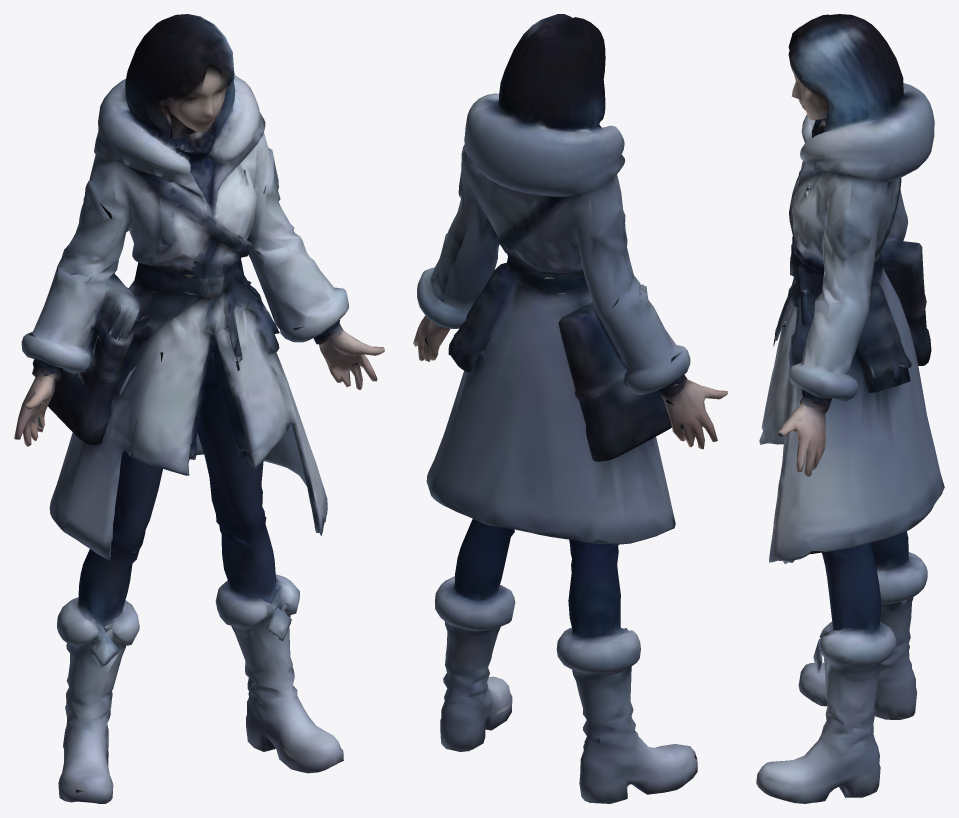
Rendered from outfit_hunter_t1_f.glb.
3 views of the same model, side by side, from view 1: azimuth 30°, elevation 25°; view 2: azimuth 150°, elevation 25°; view 3: azimuth 270°, elevation 25° (orthographic). The views are drawn at different scales.
Visible parts, largest first — view 1: outfit_hunter_t1_f; view 2: outfit_hunter_t1_f; view 3: outfit_hunter_t1_f.
Boxes of the visible parts, x1,y1,x2,y2 form: outfit_hunter_t1_f: [14, 14, 384, 803]; outfit_hunter_t1_f: [413, 14, 727, 803]; outfit_hunter_t1_f: [756, 14, 944, 803].
Size of the model in its own units: 0.8691 by 1.85 by 0.4348.
1 material, 1 textured.
